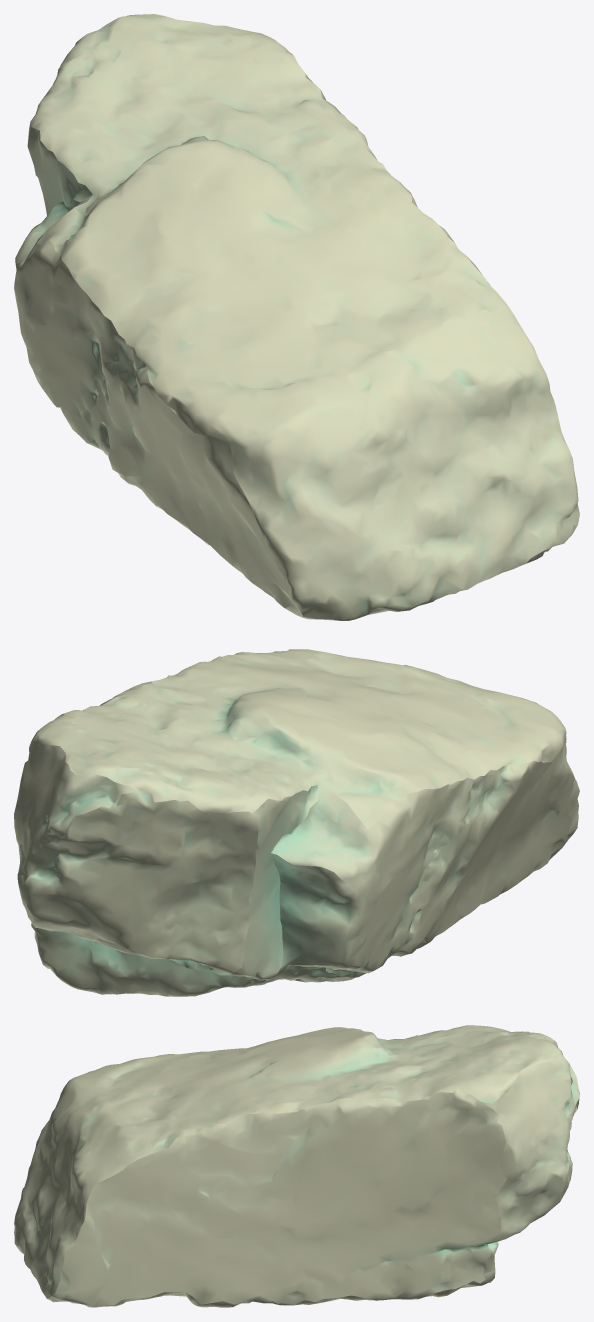
File: scan_06.glb
3 renders of one model, top to bottom at view 1: azimuth 30°, elevation 25°; view 2: azimuth 150°, elevation 25°; view 3: azimuth 270°, elevation 25°, orthographic. The views are drawn at different scales.
Size of the model in its own units: 0.9691 by 0.8247 by 1.84.
